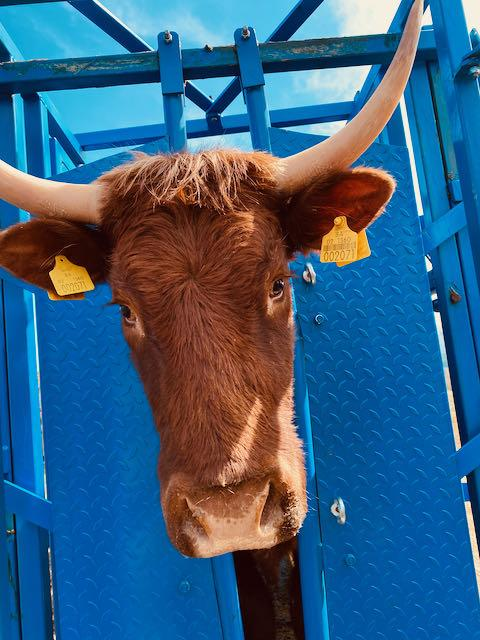muzzles: (154, 488, 318, 560)
